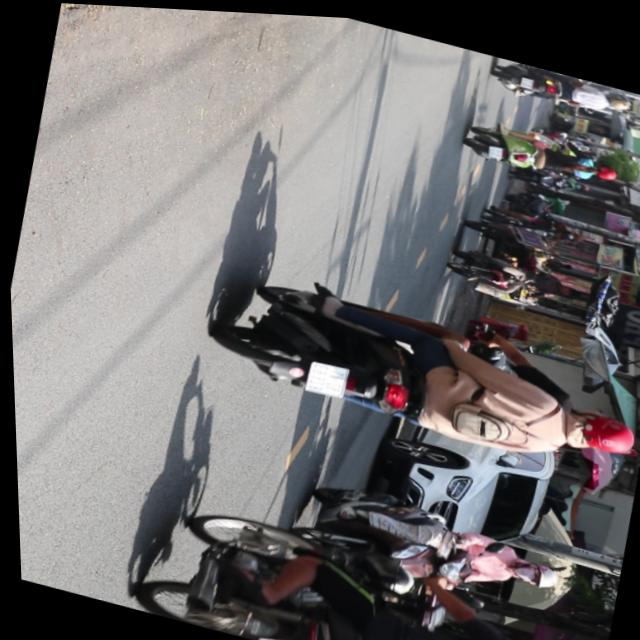helmet: (557, 396, 638, 455), (506, 551, 557, 586)
licenseplate: (198, 253, 640, 483), (118, 482, 611, 640), (278, 464, 566, 613)
nohelmet: (301, 355, 347, 395), (255, 631, 294, 640)
